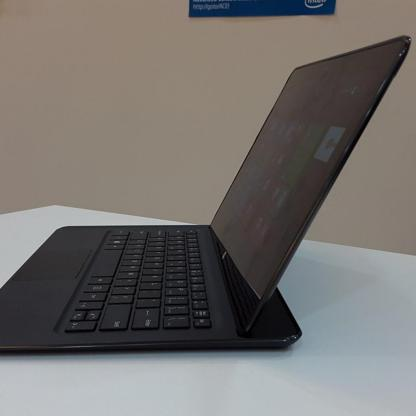board: (21, 17, 396, 359)
